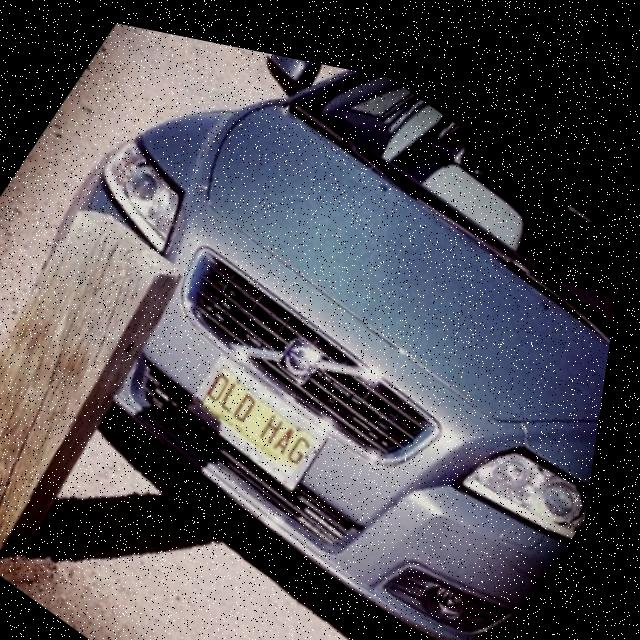license_plate: (184, 336, 350, 484)
